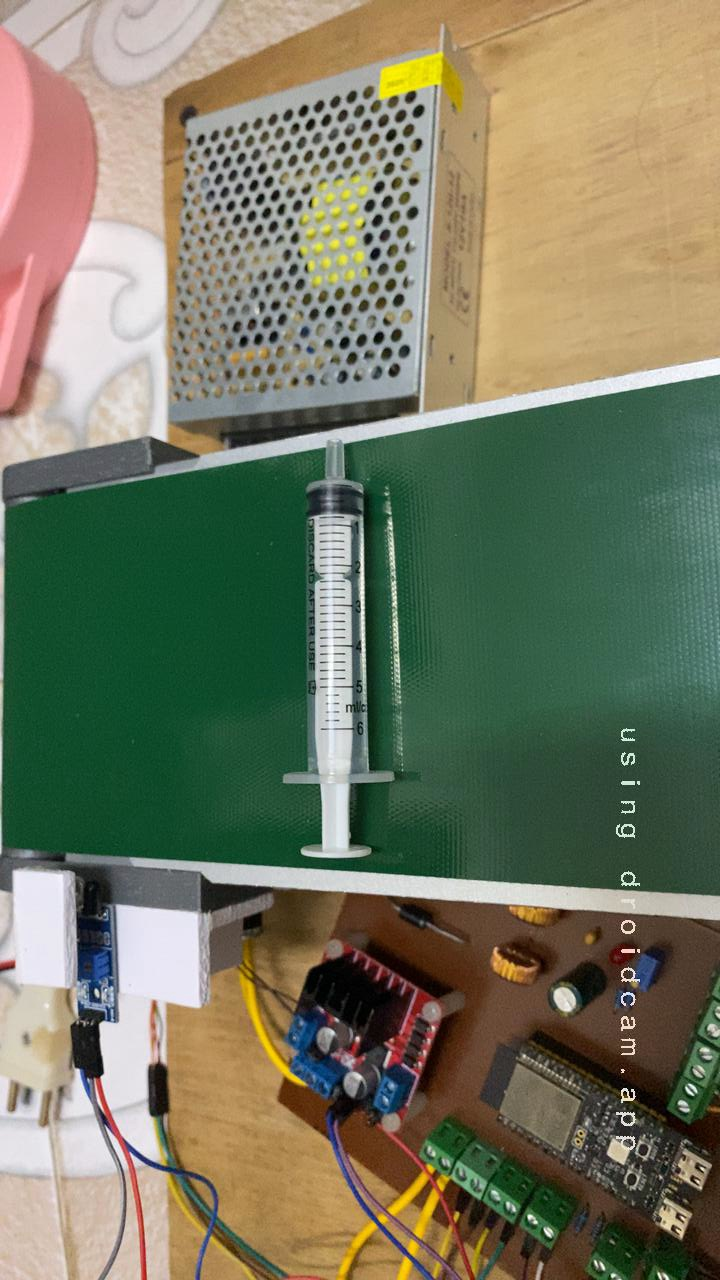syringe: (244, 435, 429, 909)
